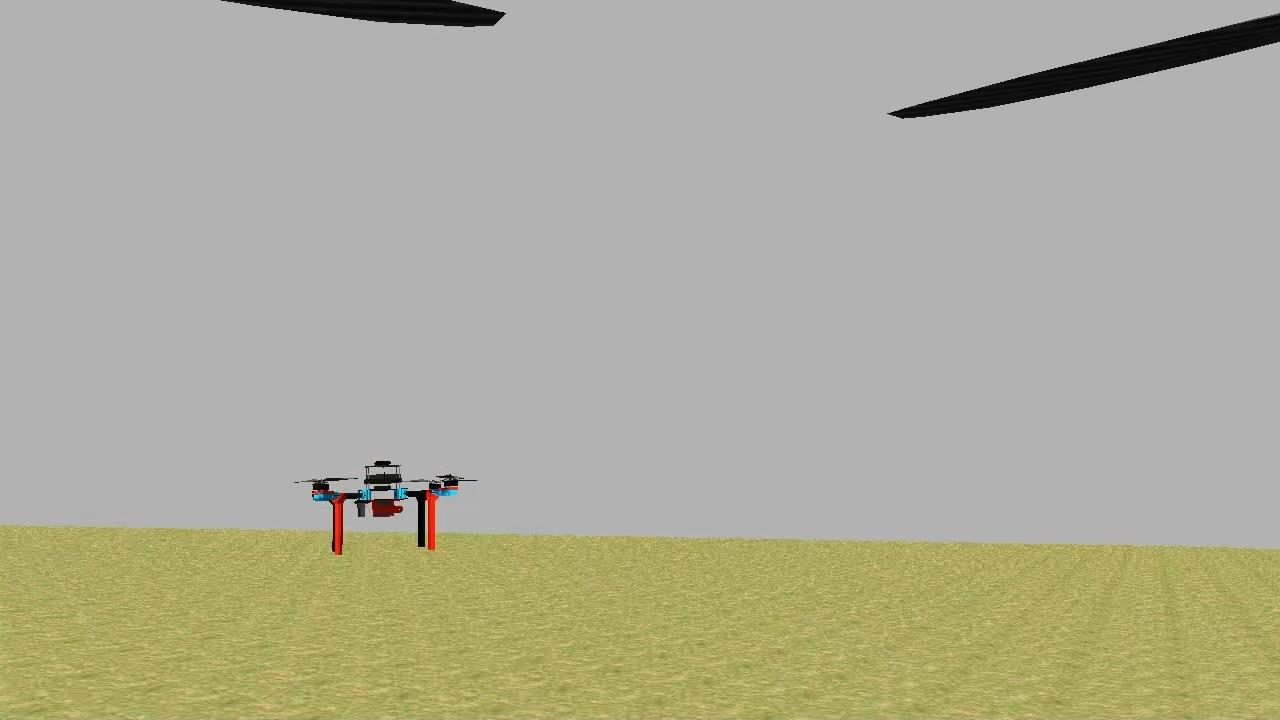UAV: (304, 456, 460, 560)
